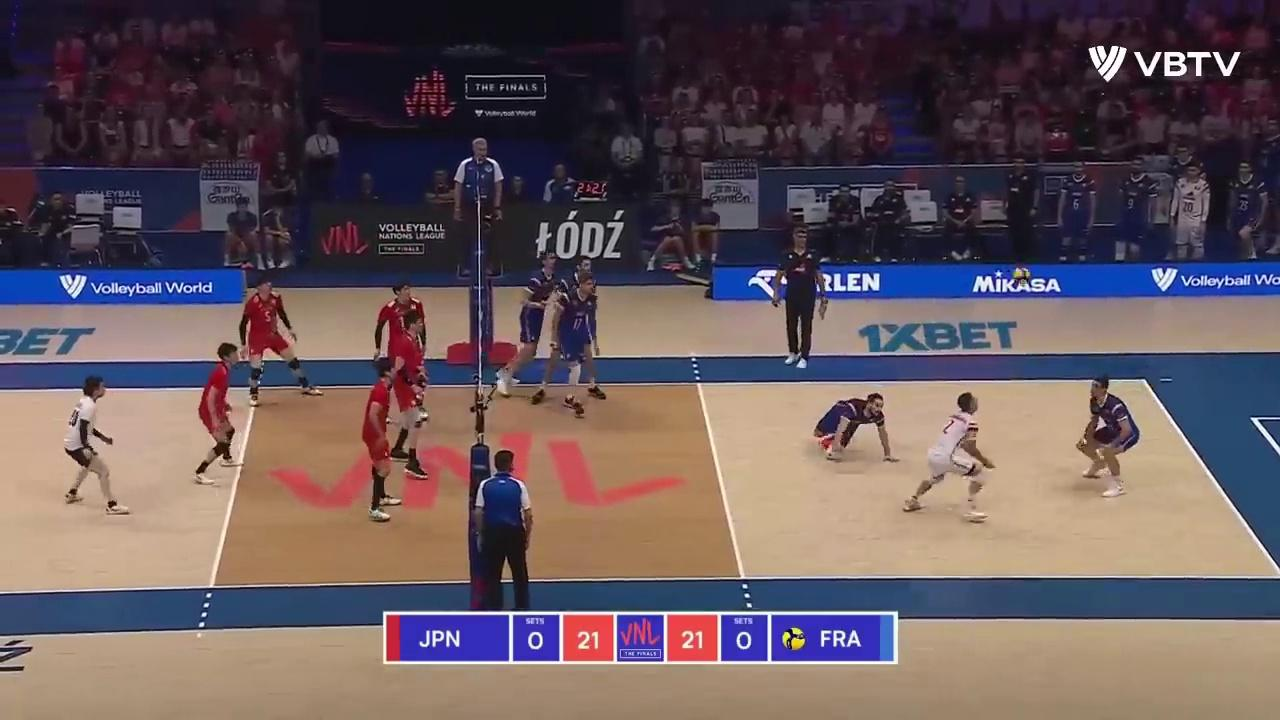ball: (1015, 267, 1031, 284)
